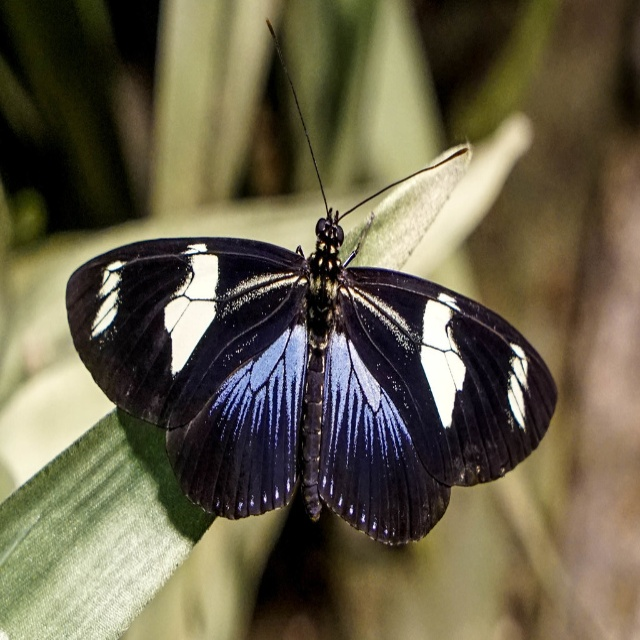Butterfly: (66, 17, 559, 545)
